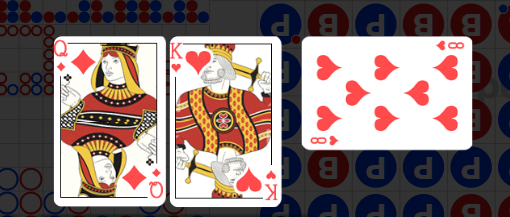8H: (434, 40, 465, 53)
QD: (66, 36, 110, 83), (133, 157, 177, 203)
